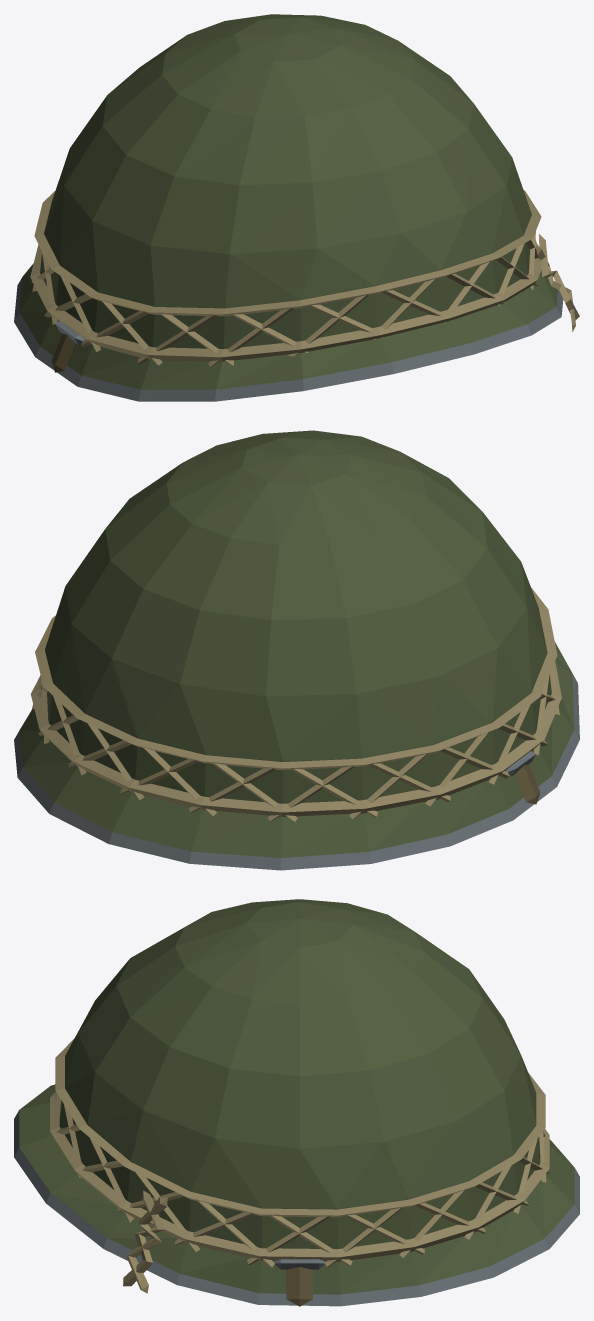
Rendered from steel-helmet-f5aa7d.glb.
3 views of the same model, one above another, from view 1: azimuth 30°, elevation 25°; view 2: azimuth 150°, elevation 25°; view 3: azimuth 270°, elevation 25° (orthographic). The views are drawn at different scales.
Parts seen in each view (by area): view 1: helmet, net-tail-mesh; view 2: helmet; view 3: helmet, net-tail-mesh.
Boxes of the visible parts, x1=… form: helmet: x1=14, y1=14, x2=563, y2=401; net-tail-mesh: x1=536, y1=234, x2=579, y2=331; helmet: x1=14, y1=430, x2=579, y2=870; helmet: x1=14, y1=899, x2=579, y2=1306; net-tail-mesh: x1=123, y1=1190, x2=167, y2=1293.
Bounding box in the file's own units: 0.2766 × 0.16 × 0.2967.
